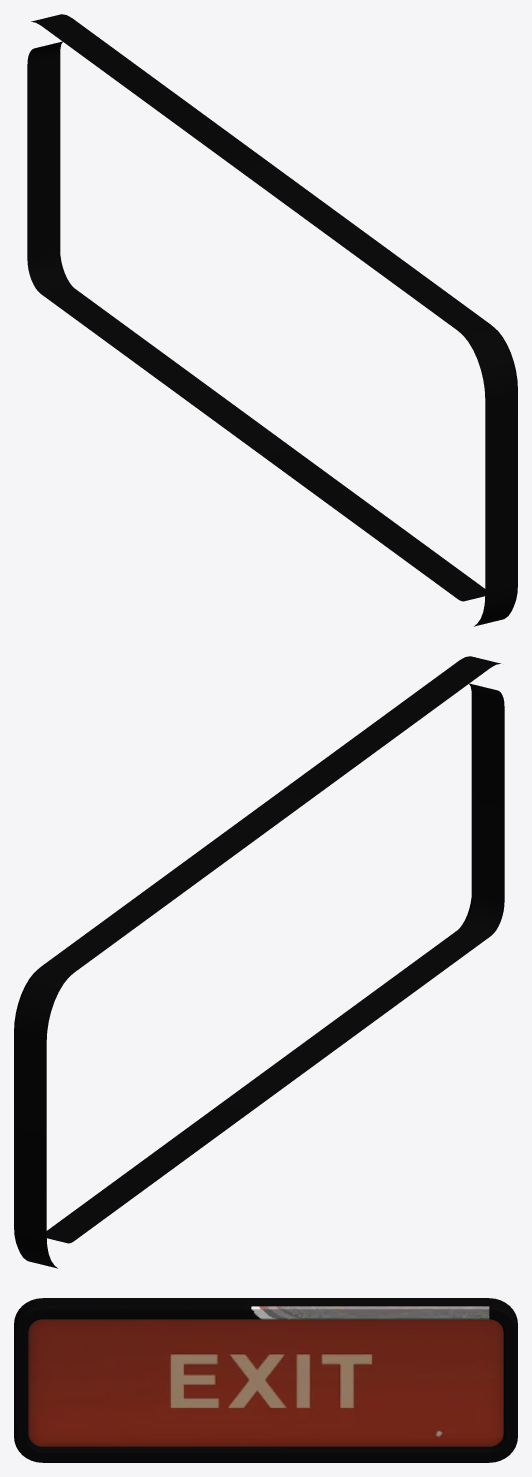
The picture shows the model from 3 angles, top to bottom: view 1: azimuth 30°, elevation 25°; view 2: azimuth 150°, elevation 25°; view 3: azimuth 270°, elevation 25°; orthographic projection. The views are drawn at different scales.
Parts seen in each view (by area): view 1: body0_model0_lod0_mesh0; view 2: body0_model0_lod0_mesh0; view 3: body0_model0_lod0_mesh0.
Boxes of the visible parts, bbox=[...] form: body0_model0_lod0_mesh0: bbox=[27, 14, 517, 626]; body0_model0_lod0_mesh0: bbox=[14, 656, 504, 1268]; body0_model0_lod0_mesh0: bbox=[14, 1298, 517, 1462].
Size of the model in its own units: 3 by 24 by 70.
Materials: 1 (1 with a texture image).
